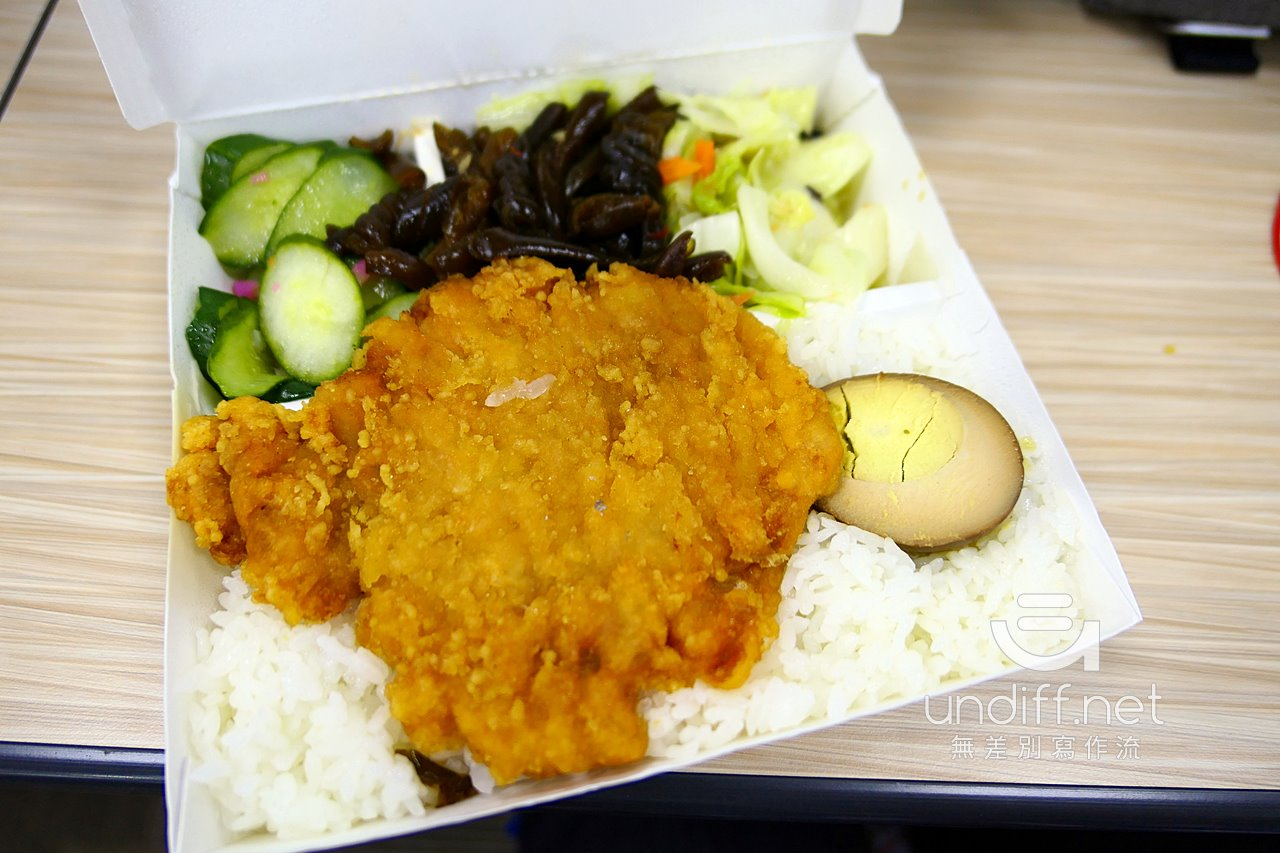fried_chicken: (172, 261, 831, 784)
rice: (204, 643, 356, 826), (797, 559, 979, 696)
